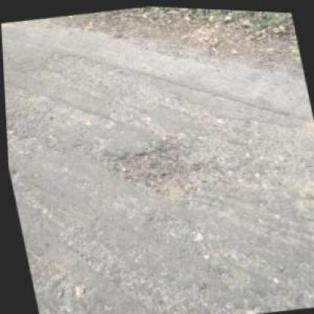Hueco: (100, 132, 225, 211)
